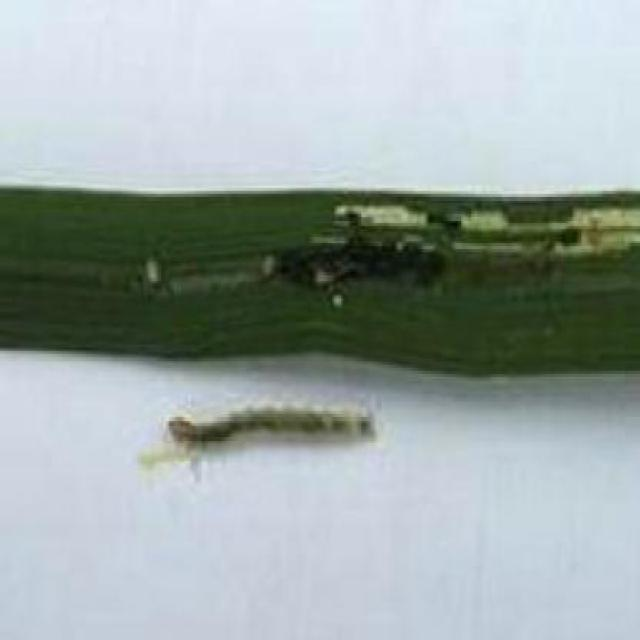leaf-folder: (142, 374, 404, 508)
